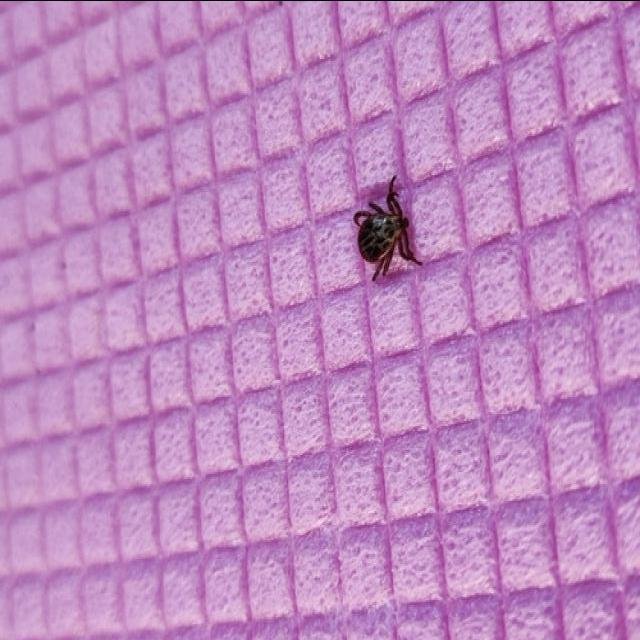Dermacentor Reticulatus-M: (355, 174, 421, 278)
